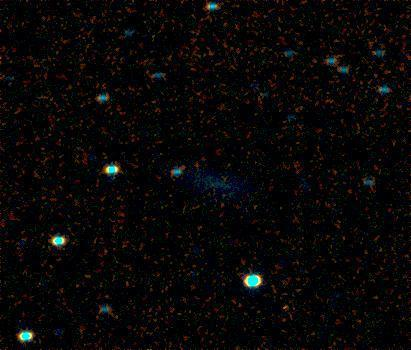star: (270, 293, 300, 323)
